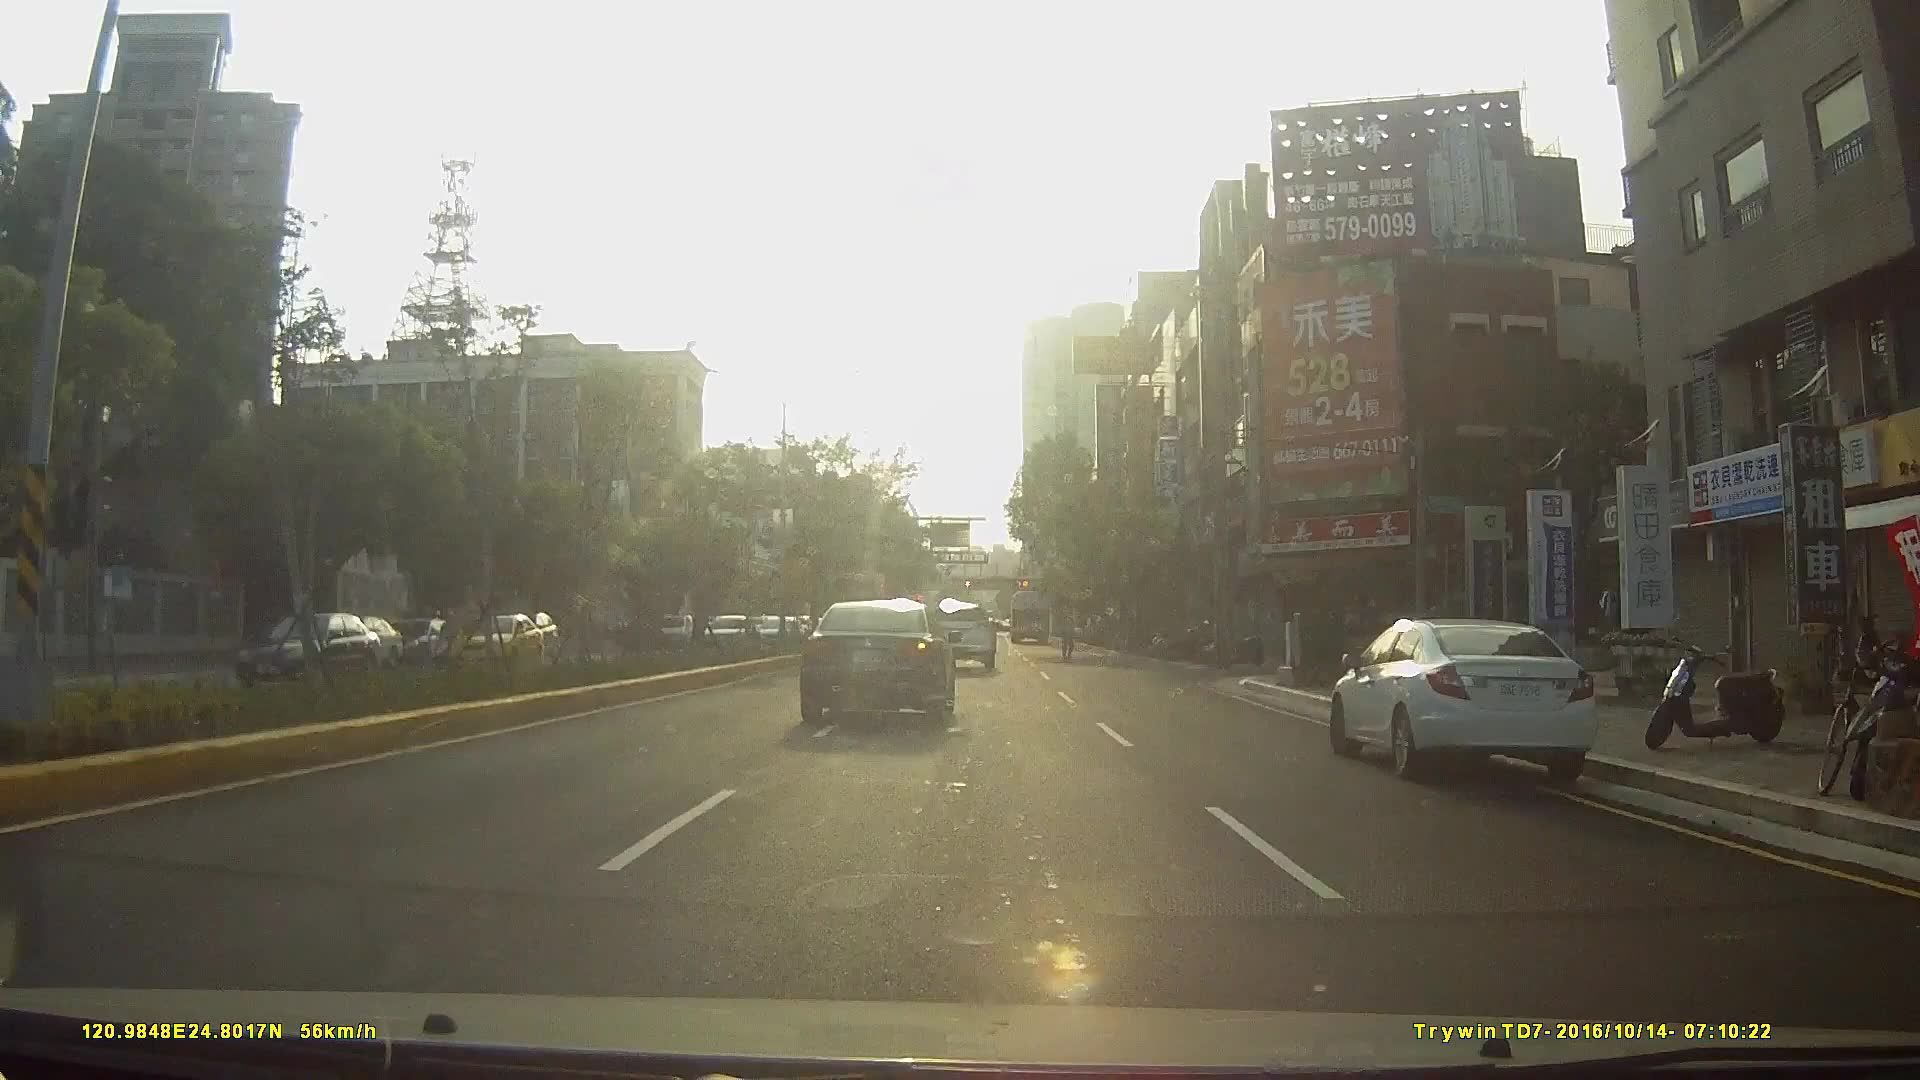vehicle: (1335, 615, 1615, 790), (796, 595, 957, 724), (216, 603, 400, 695), (446, 607, 553, 680), (920, 596, 997, 671), (315, 613, 396, 666), (378, 615, 458, 665), (497, 608, 558, 661), (698, 615, 760, 659), (1007, 588, 1051, 644), (650, 611, 692, 647), (752, 615, 796, 646)
